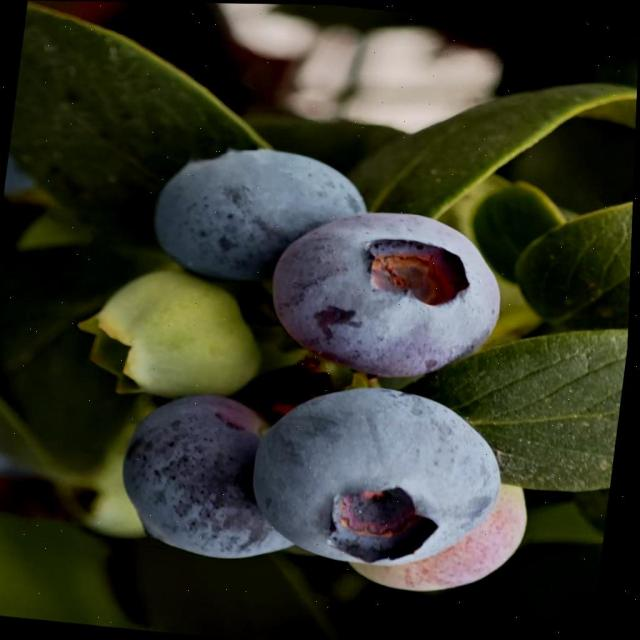RipeBlueBerry: (247, 380, 513, 576), (268, 202, 517, 388)
